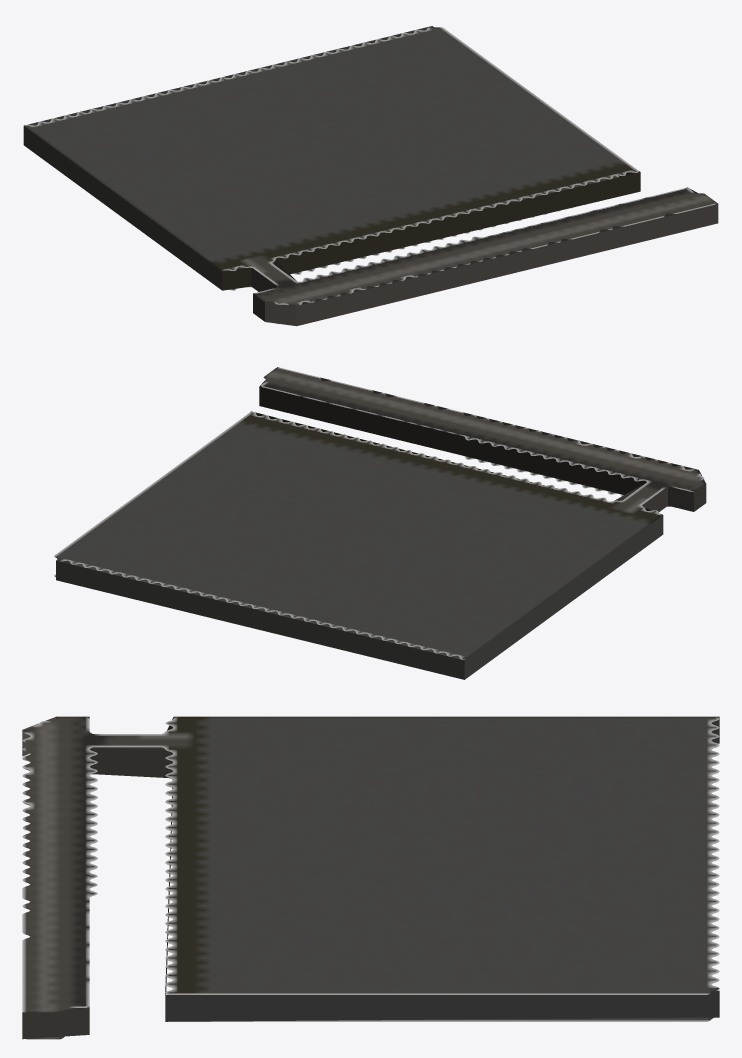
File: pz_native_fixtures_railings_01_117_frame.obj
3 views of the same model, one above another, from view 1: azimuth 30°, elevation 25°; view 2: azimuth 150°, elevation 25°; view 3: azimuth 270°, elevation 25° (orthographic). The views are drawn at different scales.
Visible parts, largest first — view 1: pz_native_fixtures_railings_01_117_frame; view 2: pz_native_fixtures_railings_01_117_frame; view 3: pz_native_fixtures_railings_01_117_frame.
Boxes of the visible parts, box(x1,y1,x2,y2) form: pz_native_fixtures_railings_01_117_frame: box(23, 26, 718, 326); pz_native_fixtures_railings_01_117_frame: box(54, 367, 706, 679); pz_native_fixtures_railings_01_117_frame: box(22, 716, 719, 1039).
Size of the model in its own units: 1.09 by 0.045 by 1.08.
1 material, 1 textured.
